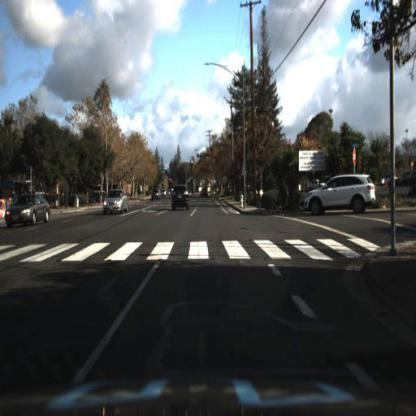car: (304, 174, 377, 221), (9, 194, 52, 229), (169, 175, 195, 217), (104, 186, 131, 220), (168, 184, 189, 214), (150, 187, 164, 205), (200, 185, 211, 201), (152, 191, 160, 204)
pedestrian: (280, 175, 292, 217), (281, 178, 290, 220)
